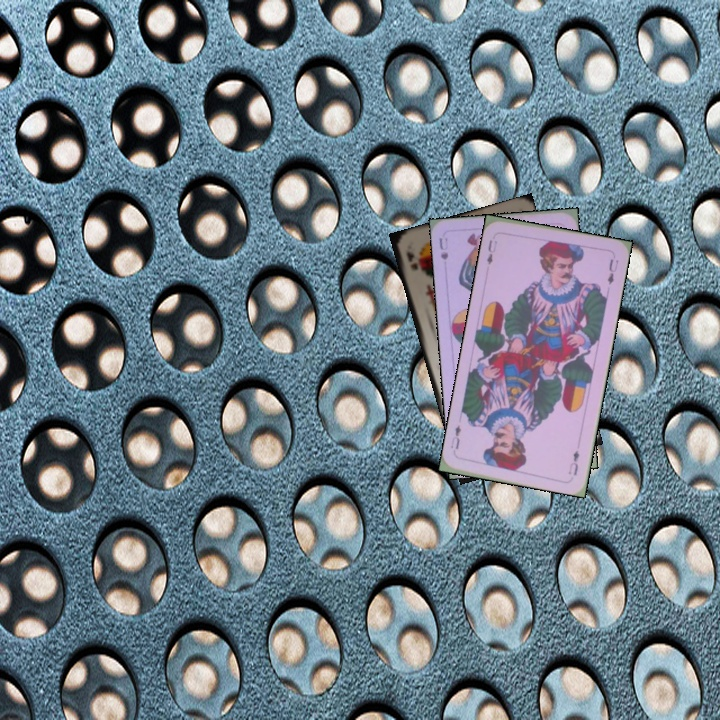EU: (564, 447, 582, 478), (483, 236, 500, 267)
SK: (402, 247, 420, 272)
SU: (435, 233, 451, 262)
